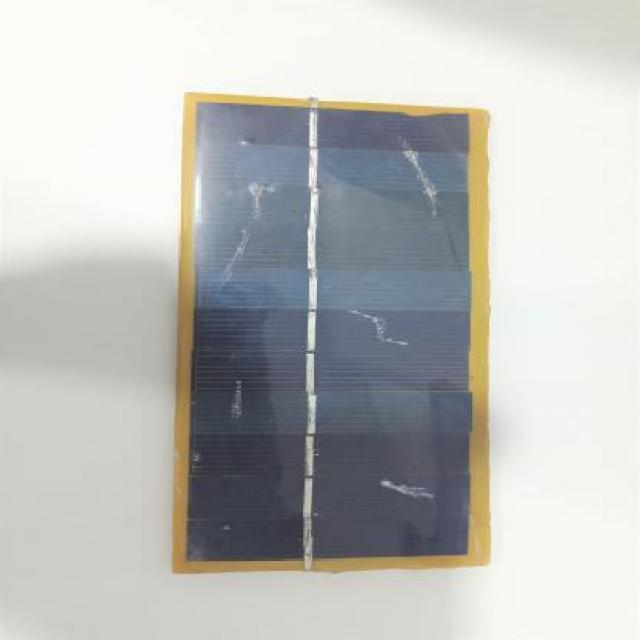faulty: (192, 103, 470, 557), (385, 127, 470, 270), (205, 170, 290, 294), (344, 288, 419, 363), (220, 357, 257, 439), (371, 470, 446, 509)
